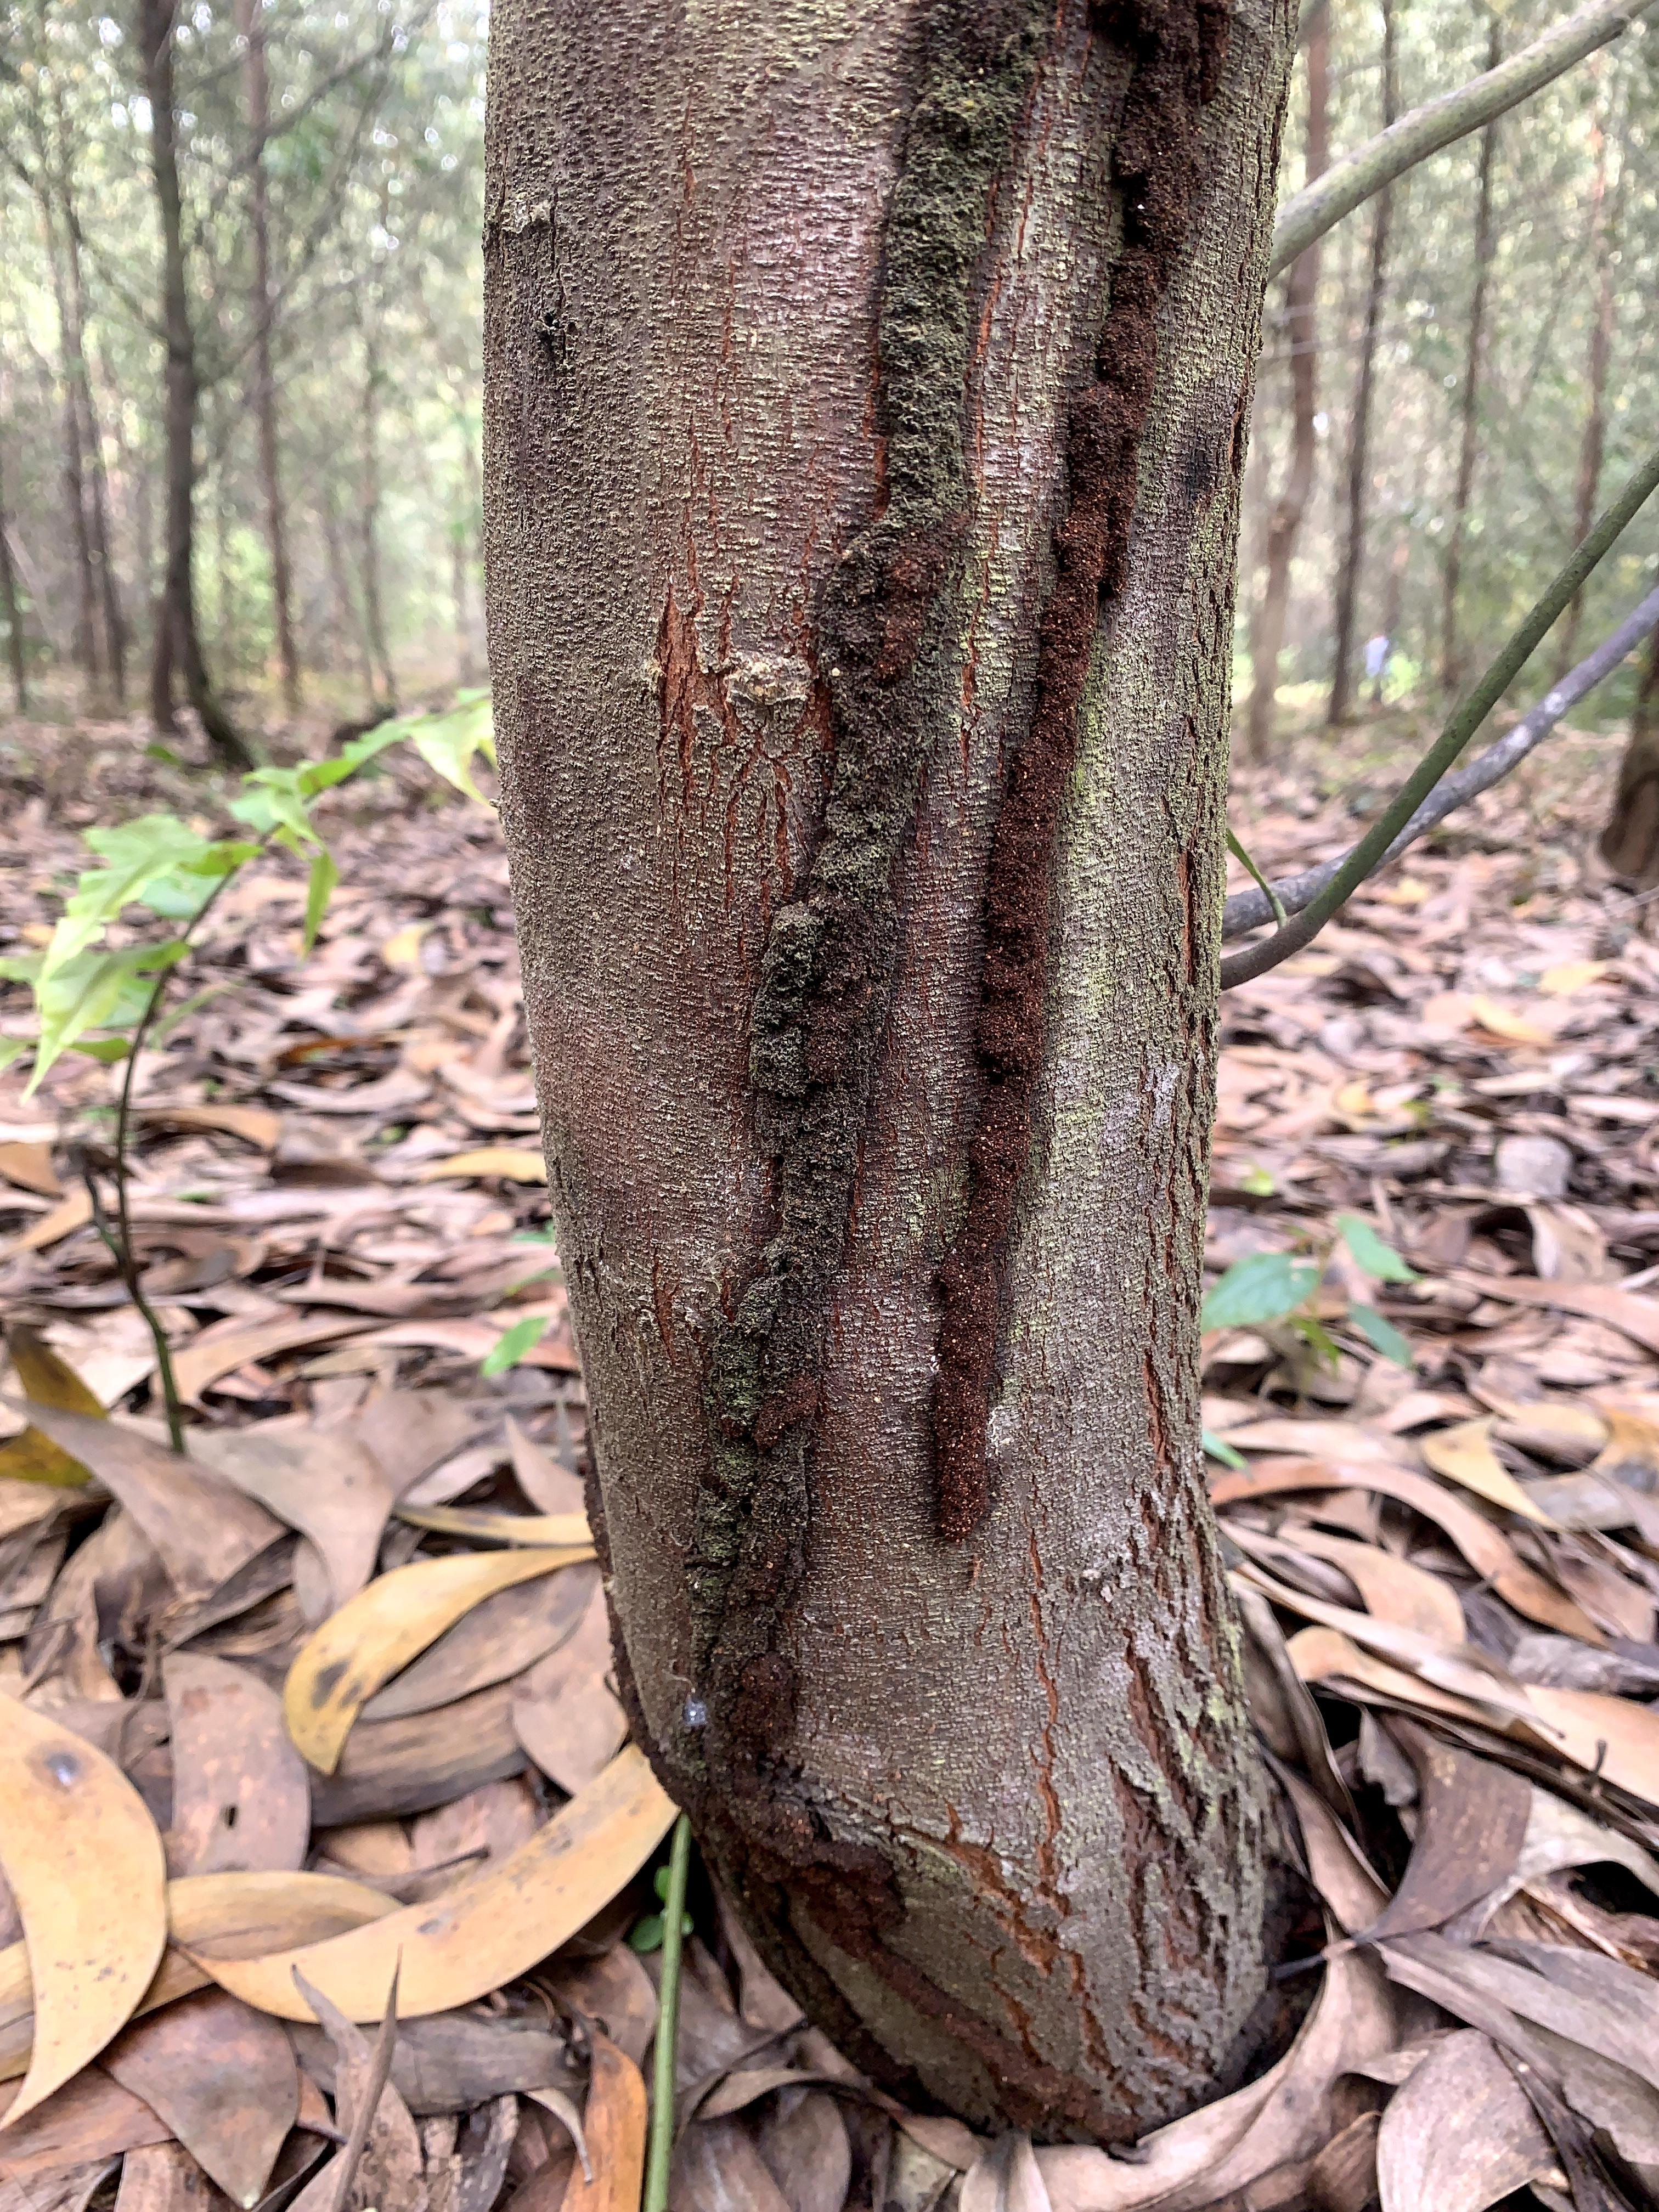Stem Deformation: (890, 1658, 1324, 2099)
Termite - Nest: (709, 2, 1033, 1730), (911, 0, 1241, 1550)
